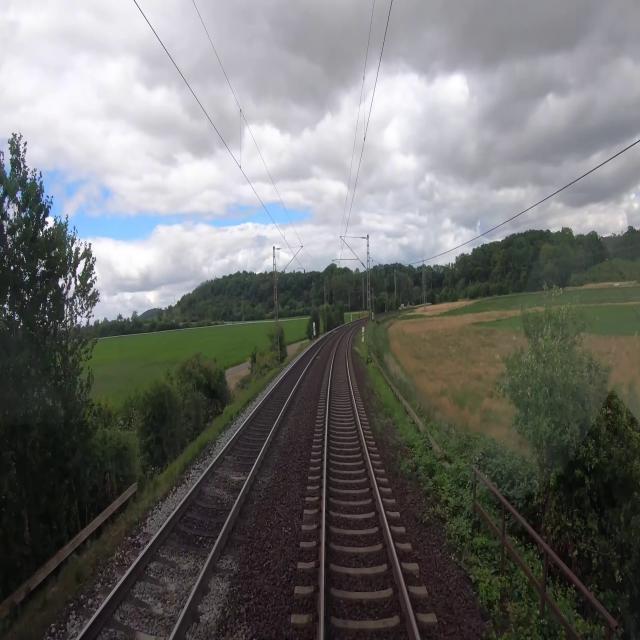Plant: (362, 380, 412, 482), (413, 507, 432, 525)
